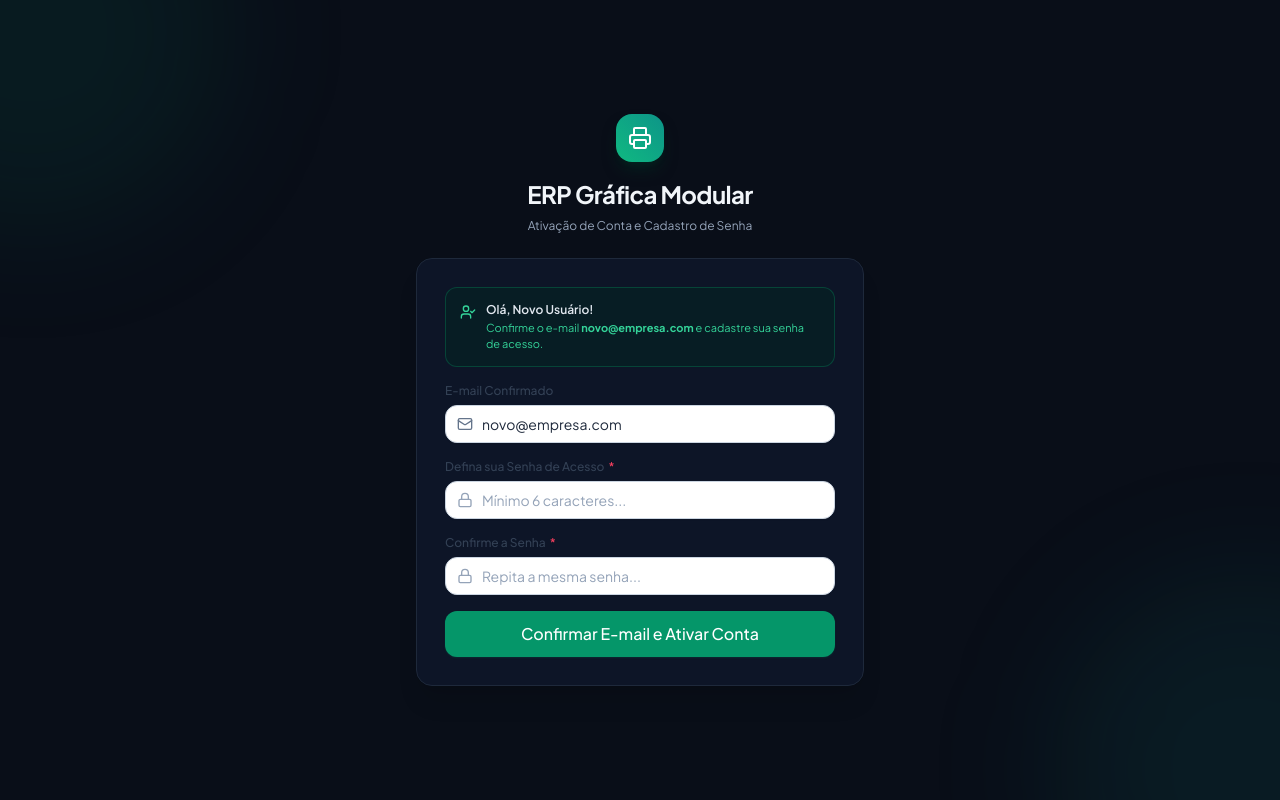
Test: ActivateAccountPage › should render form with user email and submit activation with password
The width and height of the screenshot is (1280, 800).
Expected: the text "Ativação de Conta e Cadastro de Senha" is shown, [528,218,752,233]
Expected: the text "novo@empresa.com" is shown, [581,321,694,334]
In the password field labelled "Defina sua Senha de Acesso*": (640, 500) [445,481,835,519], type "senhaSegura123"
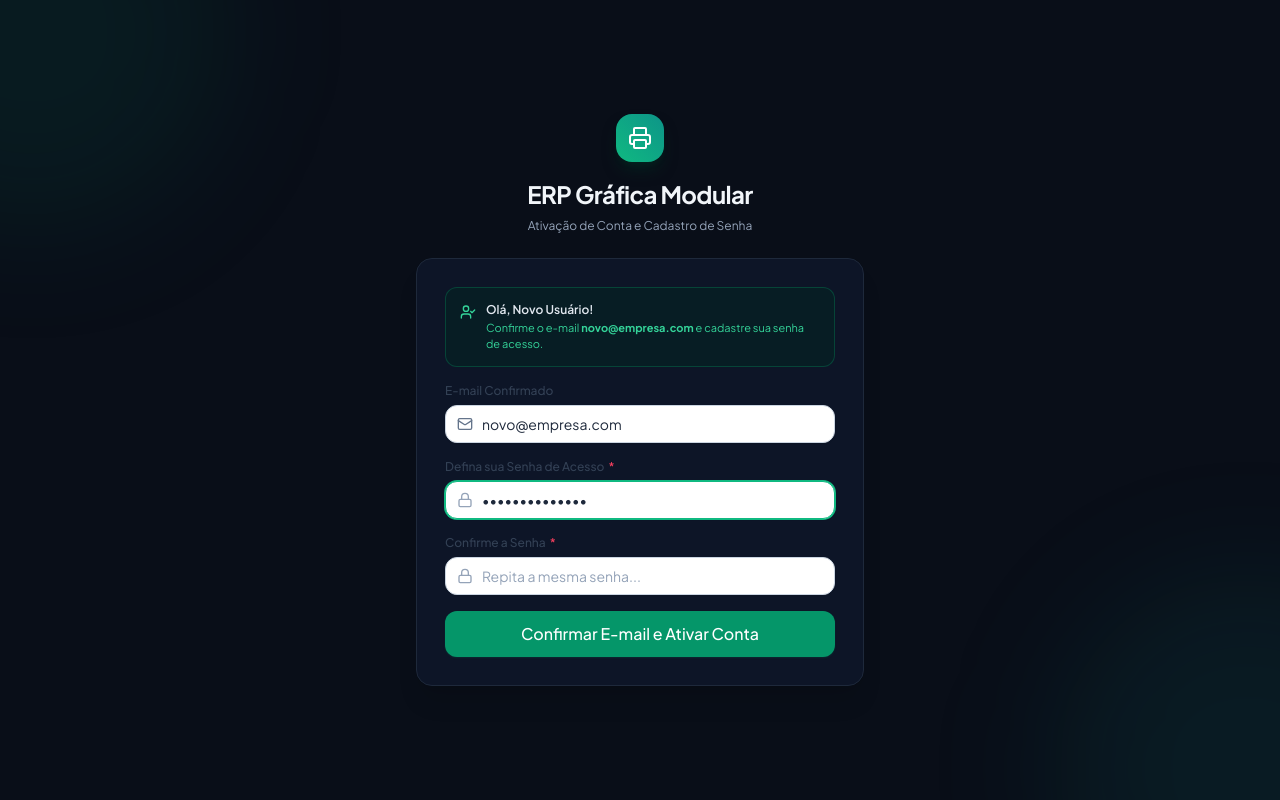
In the password field labelled "Confirme a Senha*": (640, 576) [445,557,835,595], type "senhaSegura123"
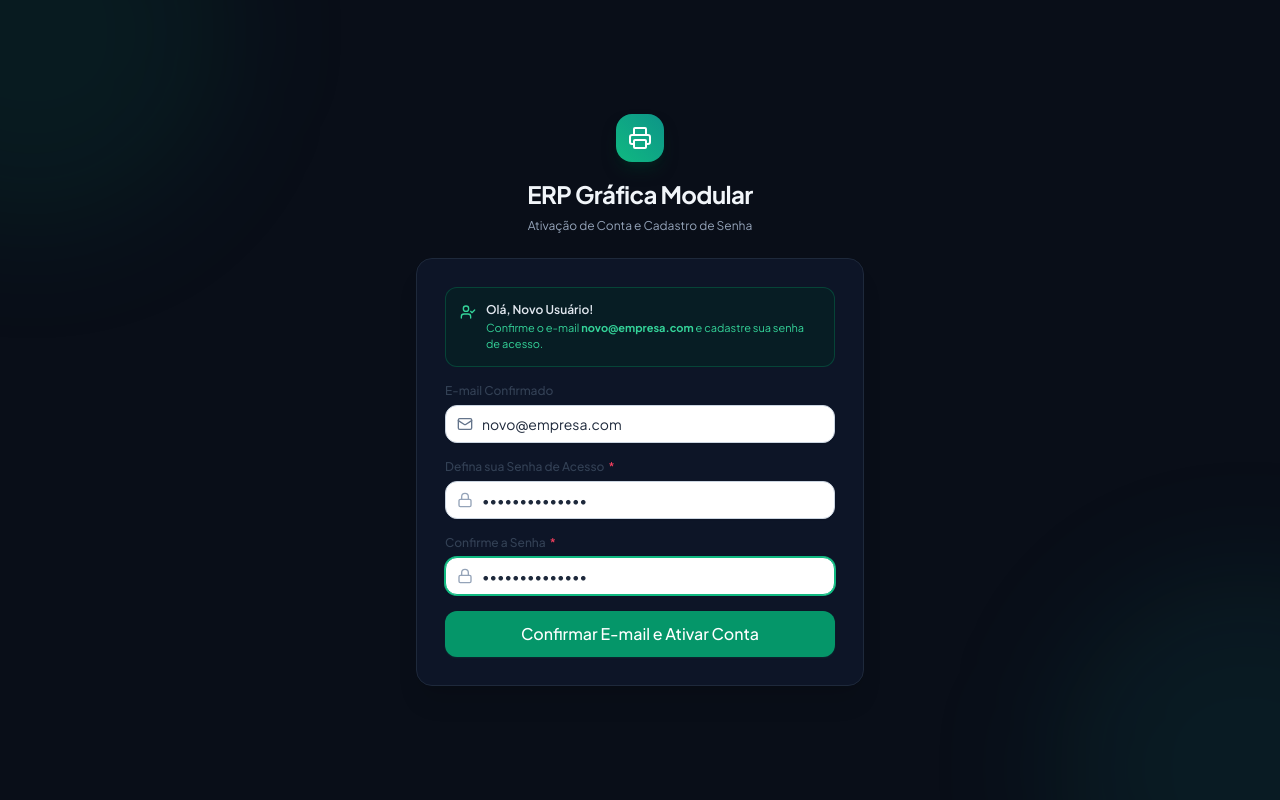
Click the button "Confirmar E-mail e Ativar Conta": (640, 634) [445,611,835,657]
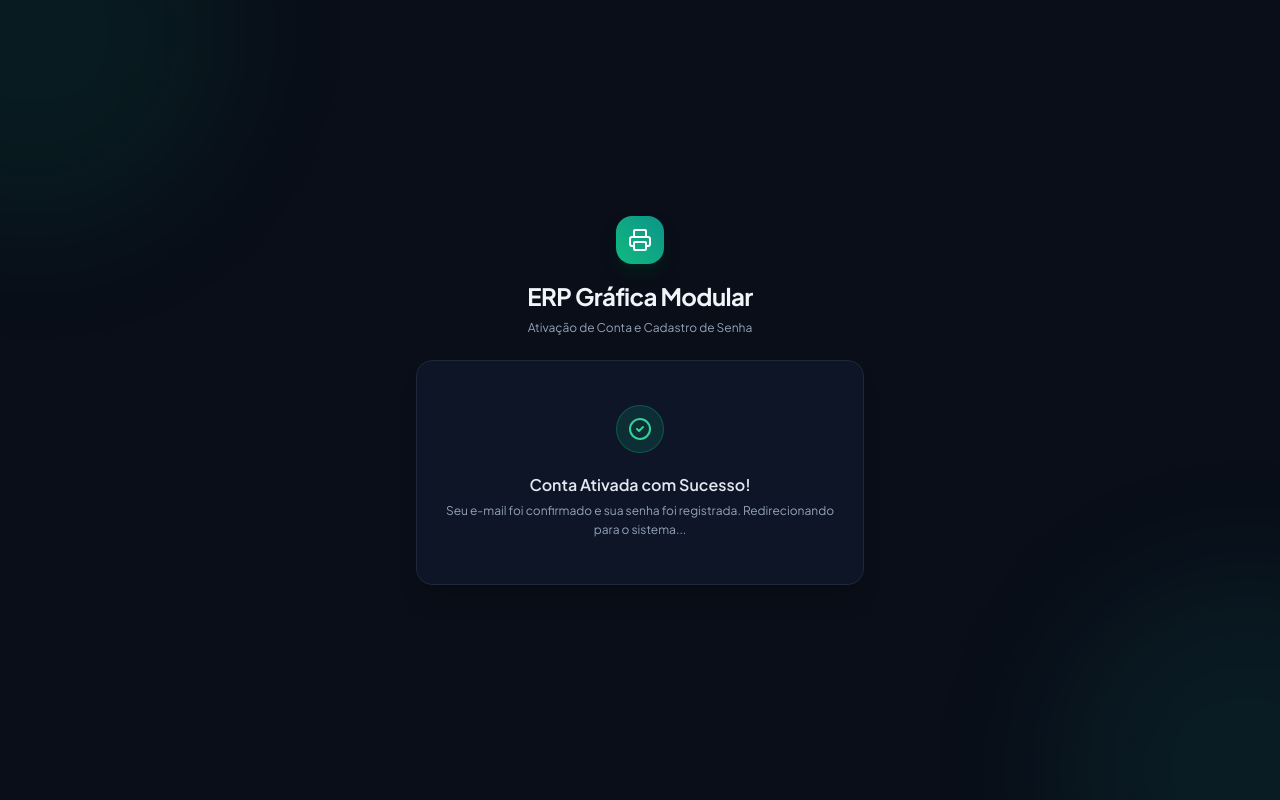
Result: the heading "Conta Ativada com Sucesso!" is shown at [529,474,751,494]
